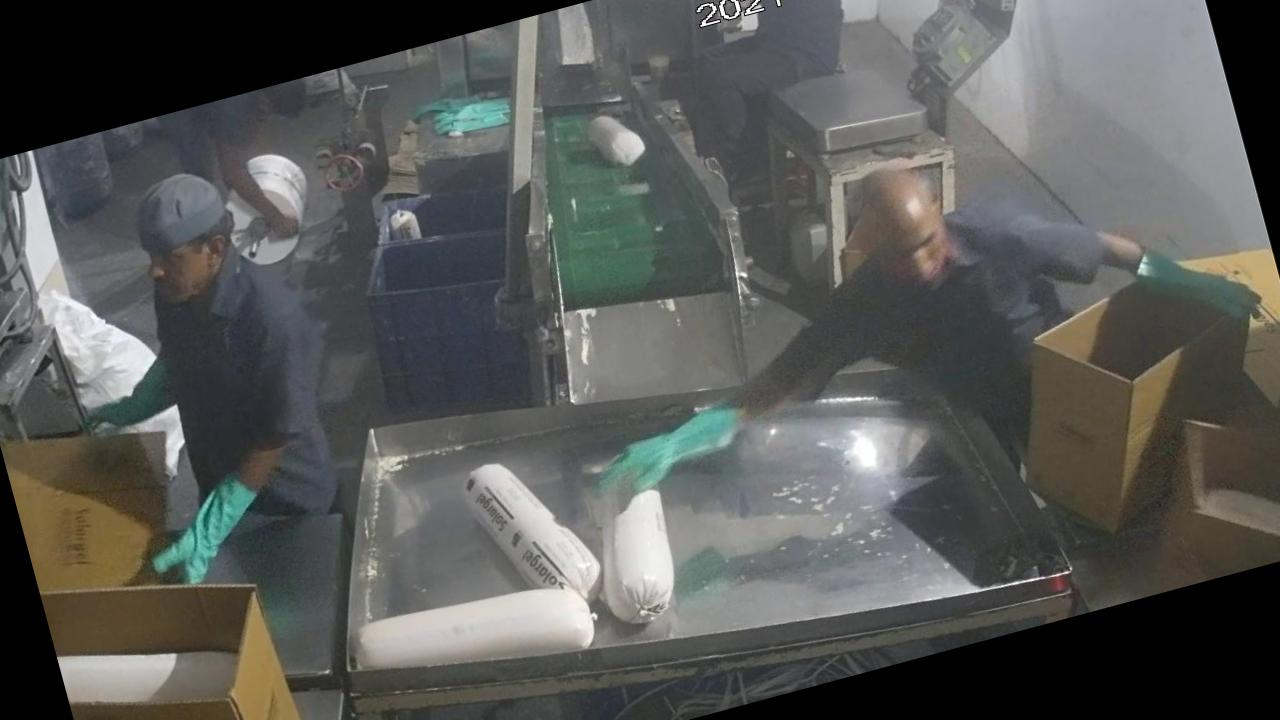Gloves: (126, 467, 302, 618), (1128, 216, 1280, 360), (602, 388, 768, 505)
